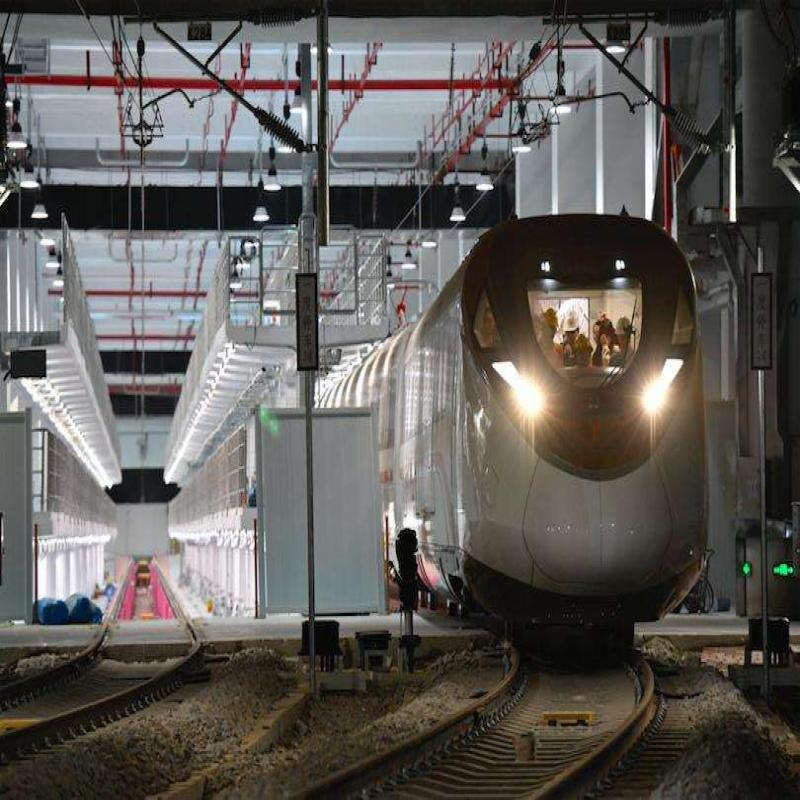train: (345, 64, 782, 558)
